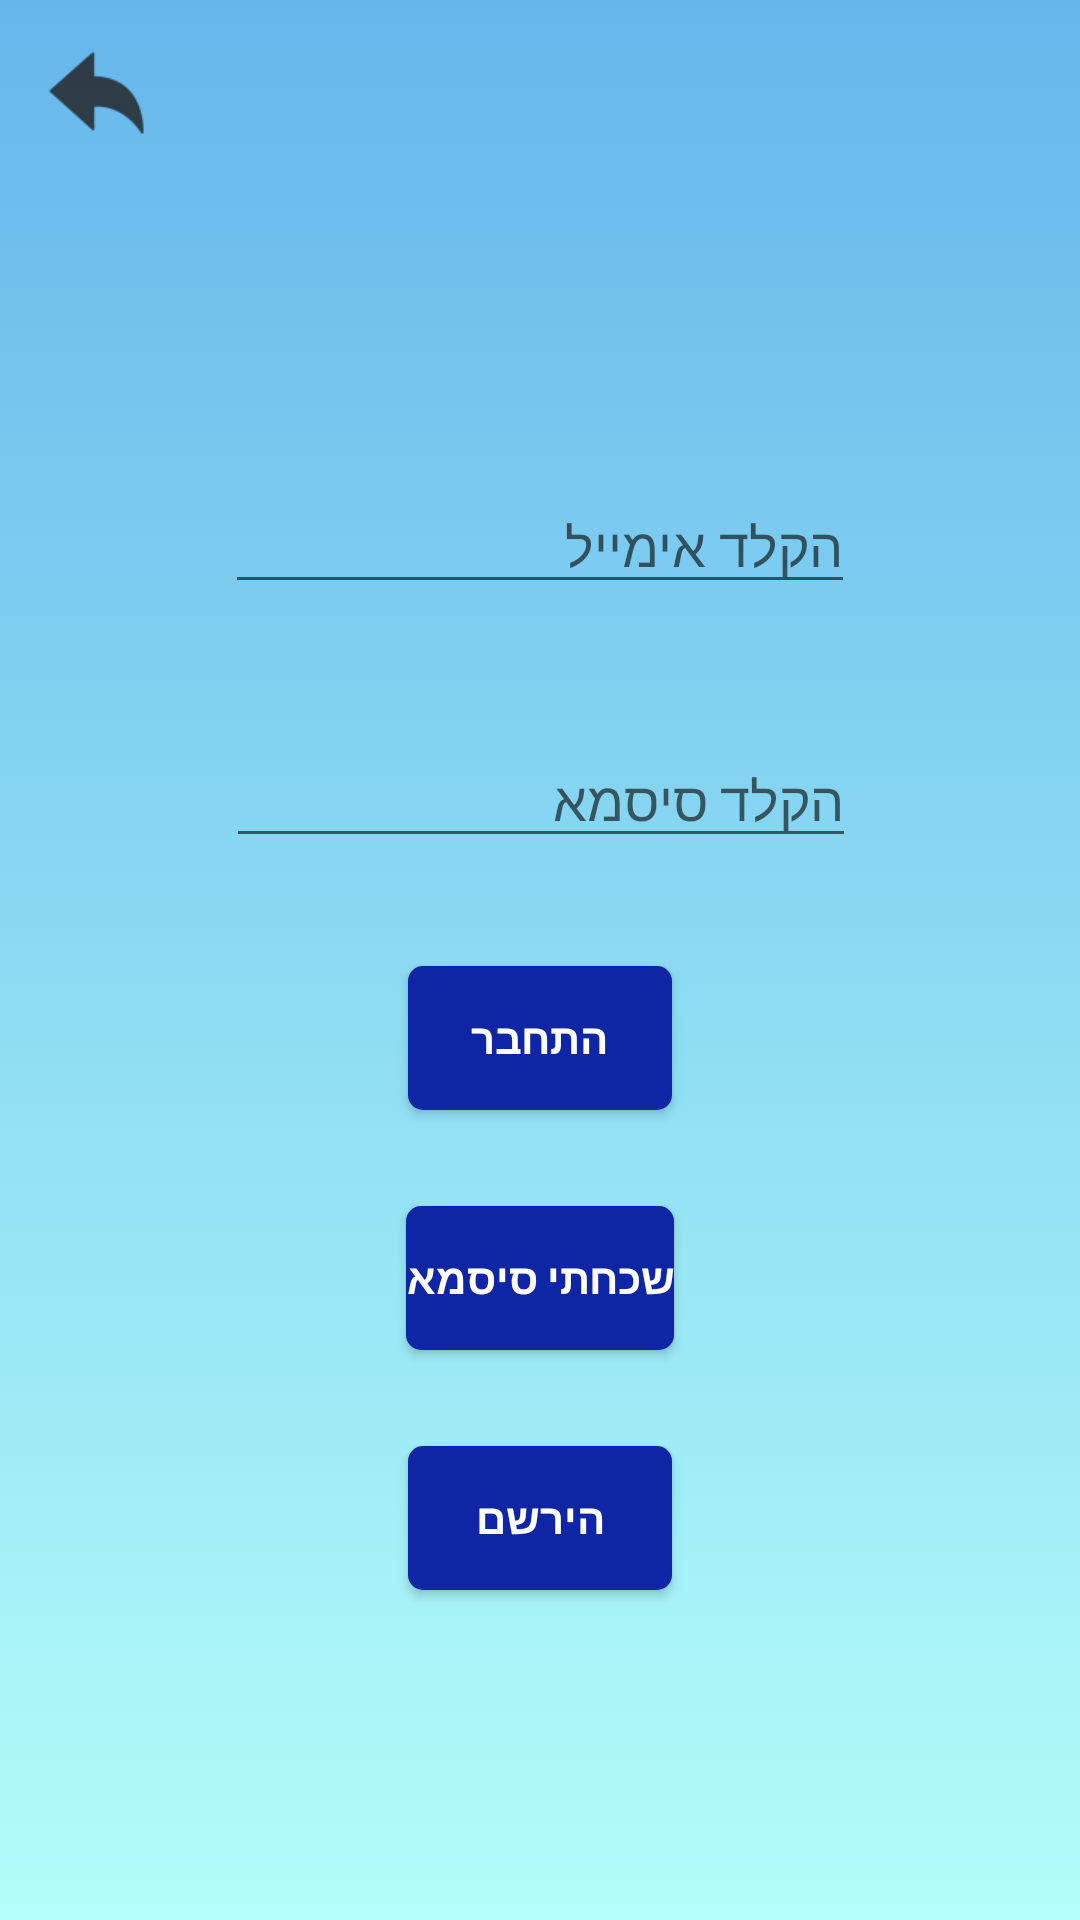

Where to tap for icons on this 1080x1920 app screen, as (x,y):
back button: (96,93)
